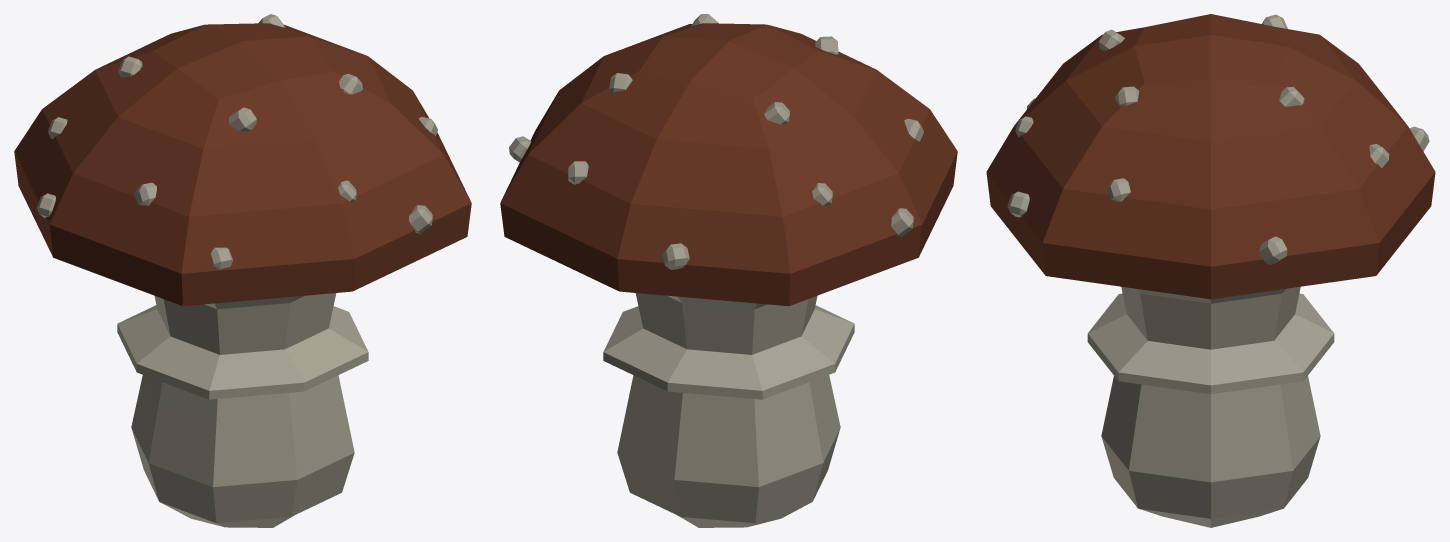
Rendered from Mushroom_3.gltf.
3 renders of one model, left to right at view 1: azimuth 30°, elevation 25°; view 2: azimuth 150°, elevation 25°; view 3: azimuth 270°, elevation 25°, orthographic.
Parts seen in each view (by area): view 1: Mushroom_3; view 2: Mushroom_3; view 3: Mushroom_3.
Part boxes in pixels (x1,y1,x2,y2): Mushroom_3: (14, 14, 471, 527); Mushroom_3: (500, 14, 957, 527); Mushroom_3: (986, 14, 1435, 527).
Bounding box in the file's own units: 0.2449 × 0.2857 × 0.2444.
